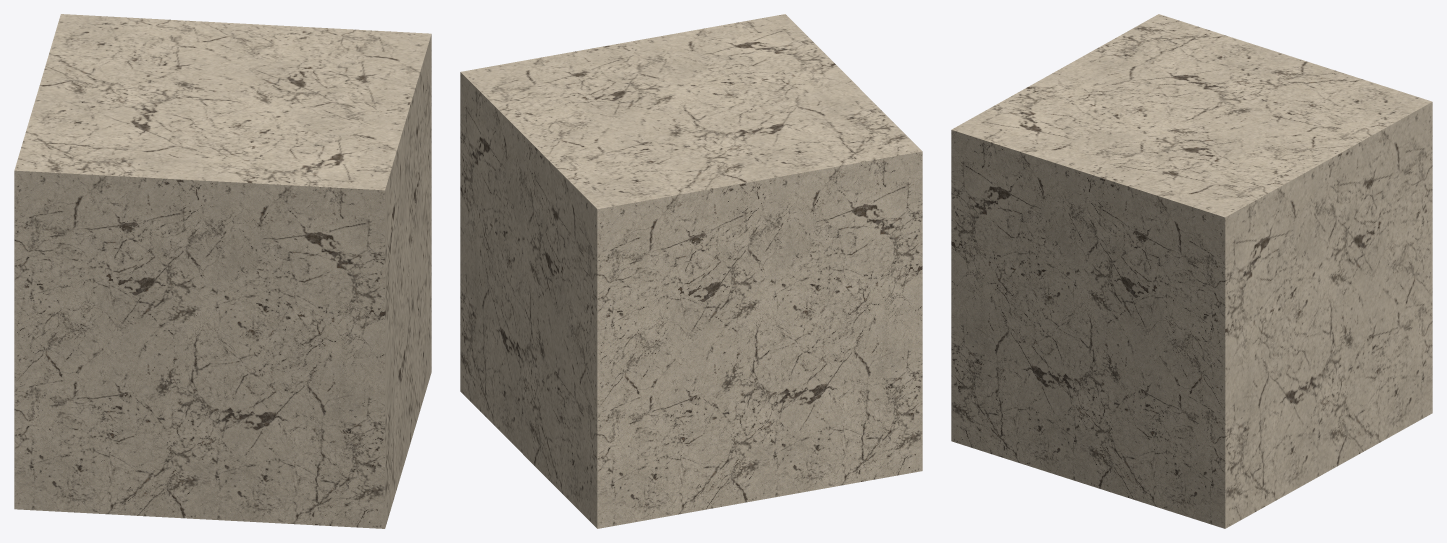
The picture shows the model from 3 angles, left to right: view 1: azimuth 30°, elevation 25°; view 2: azimuth 150°, elevation 25°; view 3: azimuth 270°, elevation 25°; orthographic projection. The views are drawn at different scales.
Parts seen in each view (by area): view 1: AnimatedCube; view 2: AnimatedCube; view 3: AnimatedCube.
Boxes of the visible parts, left/top/right/bottom form: AnimatedCube: left=14, top=14, right=431, bottom=528; AnimatedCube: left=460, top=14, right=922, bottom=528; AnimatedCube: left=951, top=14, right=1432, bottom=528.
Bounding box in the file's own units: 2.8 × 2 × 2.8.
1 material, 1 textured.
